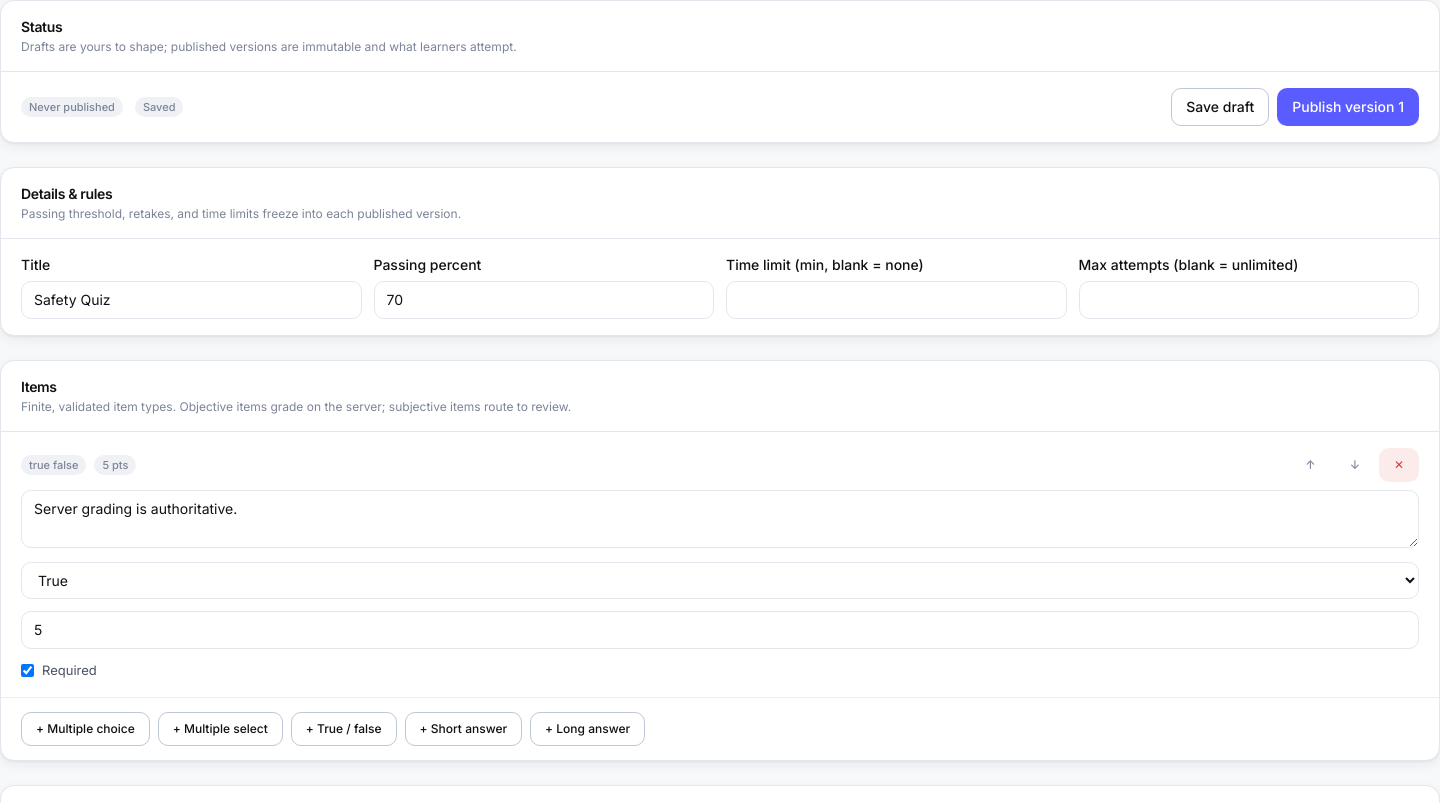
Scenario: assessment editor › an invalid item is flagged inline and blocks saving and publishing
Clear the text box named "prompt": (720, 519) [21,490,1419,548]
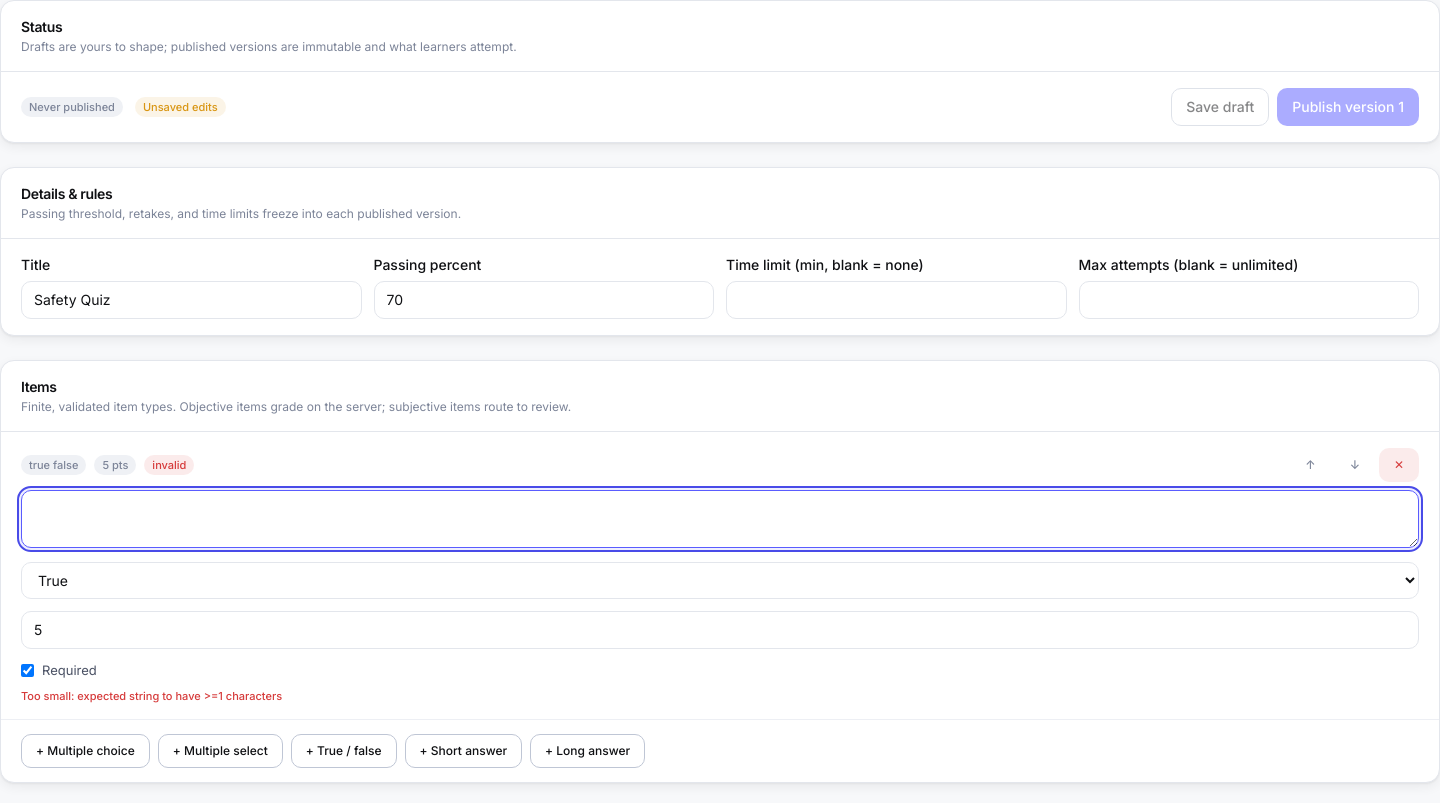
Check: the text "invalid" is shown, box [144,455,194,475]
Check: the message "Too small: expected string to have >=1 characters" is shown, box [21,688,282,702]
Check: the button "Save draft" is disabled, box [1171,88,1269,126]
